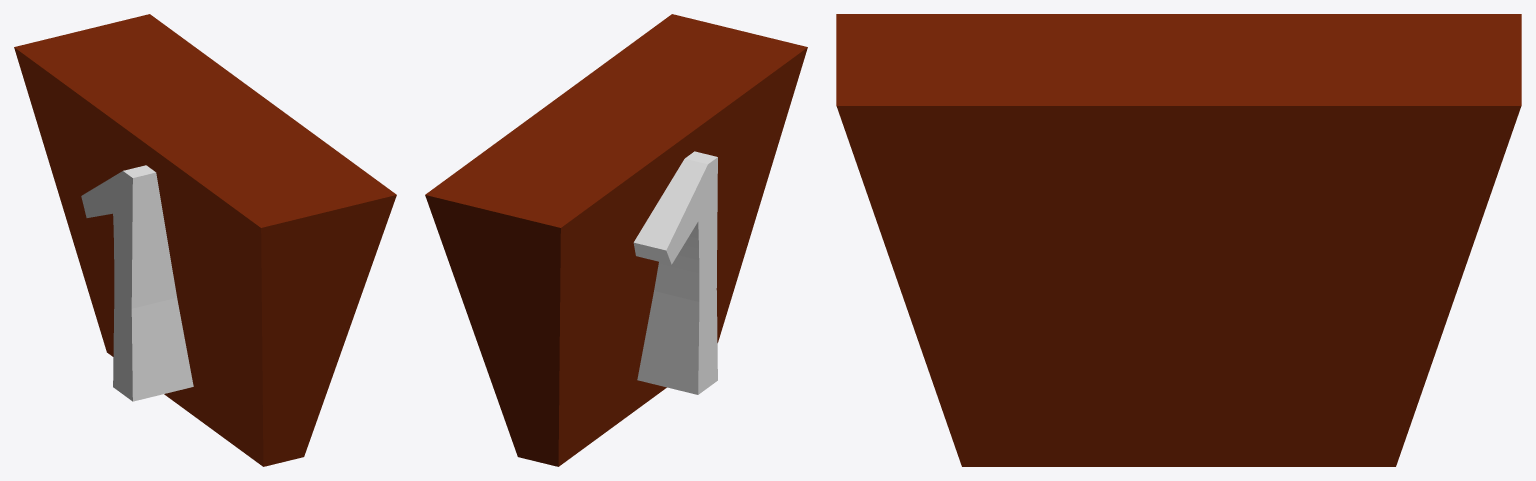
The model's file is Tag1.FBX.
The picture shows the model from 3 angles, left to right: view 1: azimuth 30°, elevation 25°; view 2: azimuth 150°, elevation 25°; view 3: azimuth 270°, elevation 25°; orthographic projection. The views are drawn at different scales.
Parts seen in each view (by area): view 1: Box001, Text001; view 2: Box001, Text001; view 3: Box001.
Boxes of the visible parts, bbox=[...] form: Box001: bbox=[14, 14, 396, 466]; Text001: bbox=[81, 165, 193, 401]; Box001: bbox=[425, 14, 807, 466]; Text001: bbox=[633, 151, 717, 394]; Box001: bbox=[836, 14, 1521, 466].
Size of the model in its own units: 57.16 by 100 by 158.
